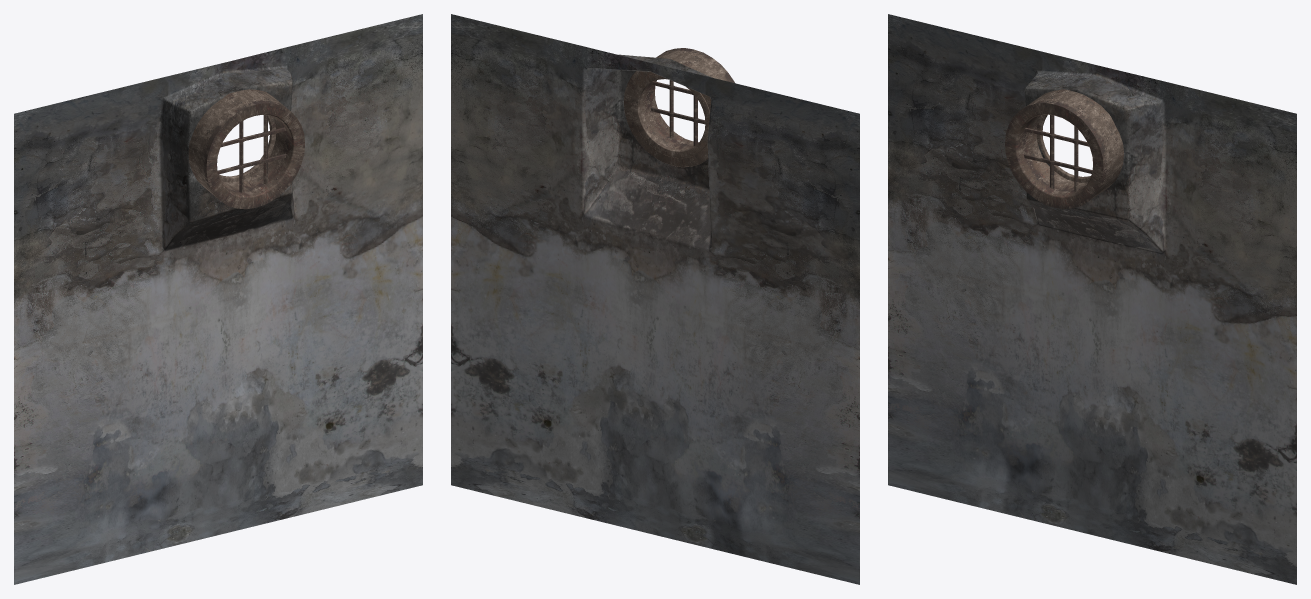
The model's file is SM_CryptWall_01_05.fbx.
3 views of the same model, side by side, from view 1: azimuth 30°, elevation 25°; view 2: azimuth 150°, elevation 25°; view 3: azimuth 330°, elevation 25° (orthographic).
Parts seen in each view (by area): view 1: sm_CryptWall_01_05_LOD0; view 2: sm_CryptWall_01_05_LOD0; view 3: sm_CryptWall_01_05_LOD0.
Boxes of the visible parts, left/top/right/bottom form: sm_CryptWall_01_05_LOD0: left=14, top=14, right=422, bottom=584; sm_CryptWall_01_05_LOD0: left=451, top=14, right=859, bottom=584; sm_CryptWall_01_05_LOD0: left=888, top=14, right=1296, bottom=584.
Size of the model in its own units: 44.25 by 250 by 275.
